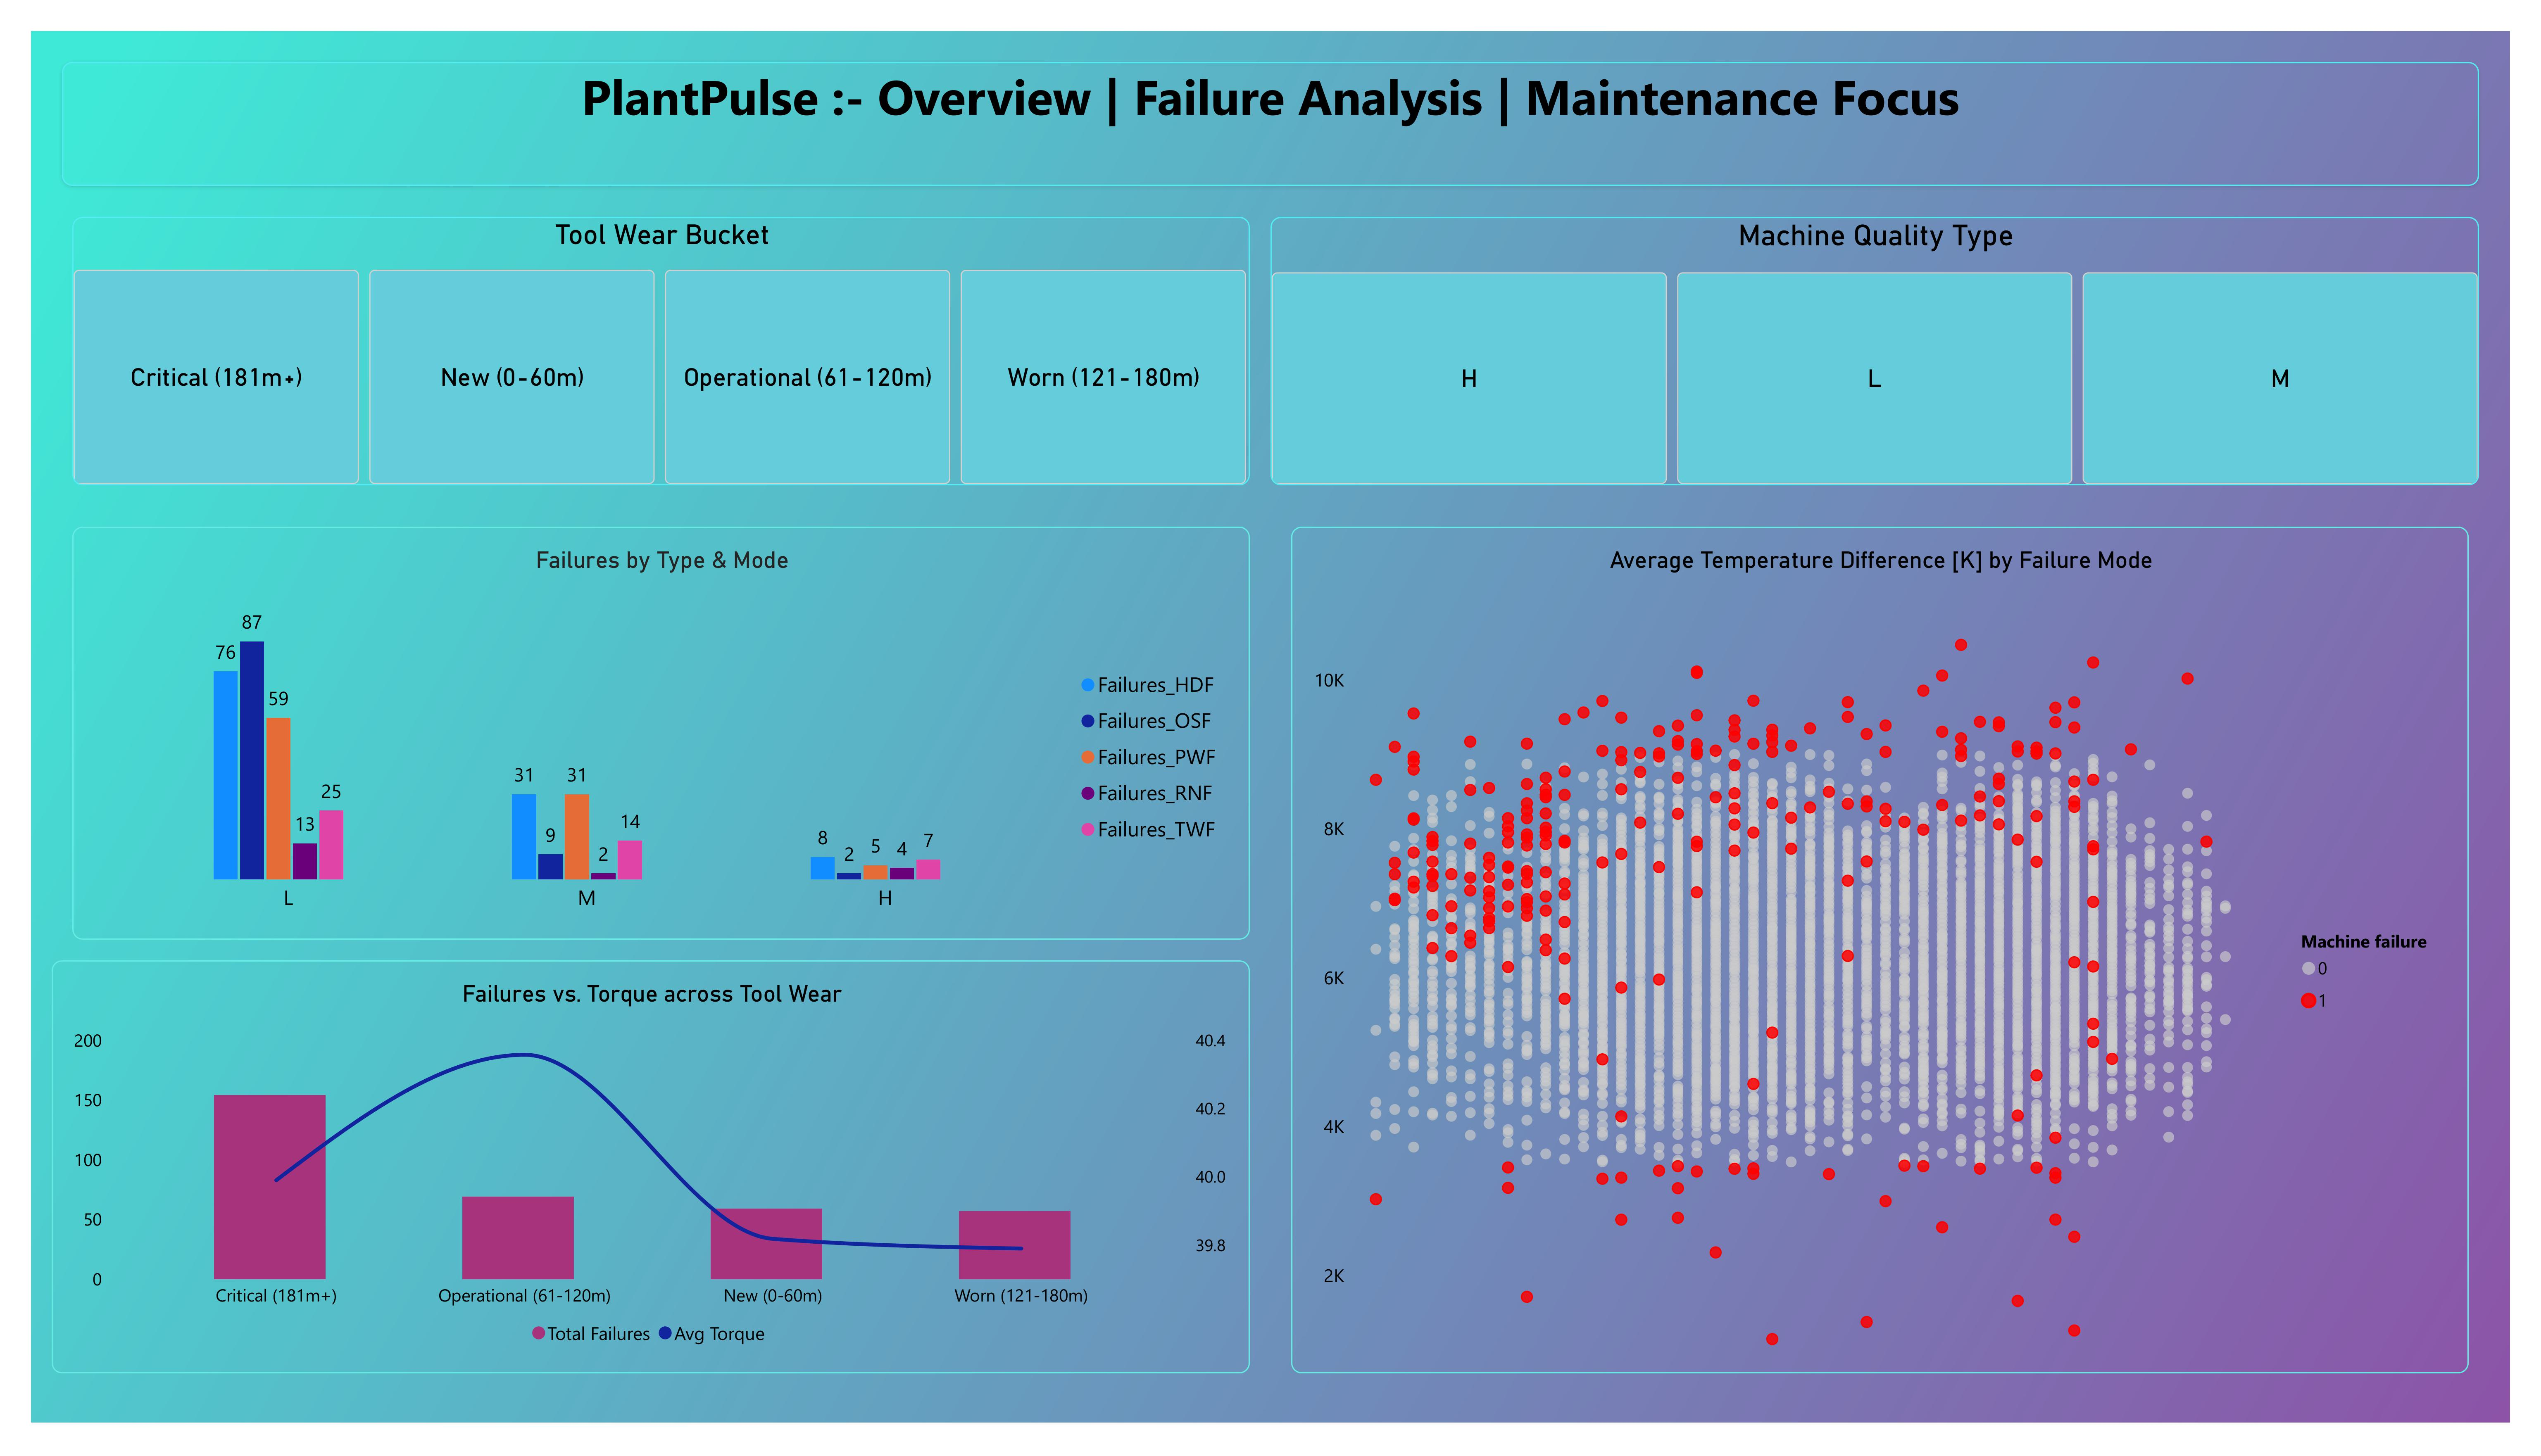

What the dashboard file says about the page in this screenshot:
{"tool":"powerbi","page":{"name":"Page 2","canvas":[1920,1080],"ordinal":1},"visuals":[{"type":"textbox","box":[24,24,1872,96],"z":0},{"type":"advancedSlicerVisual","title":"Tool Wear Bucket","fields":{"Values":["plantpulse_processed.Tool_Wear_Bucket"]},"box":[32,144,912,208],"z":1000},{"type":"advancedSlicerVisual","title":"Machine Quality Type","fields":{"Values":["plantpulse_processed.Type"]},"box":[960,144,936,208],"z":2000},{"type":"clusteredColumnChart","title":"Failures by Type & Mode","fields":{"Category":["plantpulse_processed.Type"],"Y":["_Measures.Failures_HDF","_Measures.Failures_OSF","_Measures.Failures_PWF","_Measures.Failures_RNF","_Measures.Failures_TWF"]},"box":[32,384,912,320],"z":3000},{"type":"lineClusteredColumnComboChart","title":"Failures vs. Torque across Tool Wear","fields":{"Category":["plantpulse_processed.Tool_Wear_Bucket"],"Y":["_Measures.Total Failures"],"Y2":["_Measures.Avg Torque"]},"box":[16,720,928,320],"z":4000},{"type":"scatterChart","title":"Average Temperature Difference [K] by Failure Mode","fields":{"Series":["plantpulse_processed.Machine failure"],"X":["plantpulse_processed.Temp_Difference [K]"],"Y":["plantpulse_processed.Power [W]"]},"box":[976,384,912,656],"z":5000}]}

Visuals, with their boxes on the page's 1920x1080 design canvas (x1, y1, x2, y2). These are canvas units, not pixel positions in the 2541x1456 screenshot, which may show the page scaled, cropped or inside an application window:
textbox: pyautogui.locateOnScreen(24, 24, 1896, 120)
"Tool Wear Bucket" advancedSlicerVisual: pyautogui.locateOnScreen(32, 144, 944, 352)
"Machine Quality Type" advancedSlicerVisual: pyautogui.locateOnScreen(960, 144, 1896, 352)
"Failures by Type & Mode" clusteredColumnChart: pyautogui.locateOnScreen(32, 384, 944, 704)
"Failures vs. Torque across Tool Wear" lineClusteredColumnComboChart: pyautogui.locateOnScreen(16, 720, 944, 1040)
"Average Temperature Difference [K] by Failure Mode" scatterChart: pyautogui.locateOnScreen(976, 384, 1888, 1040)
